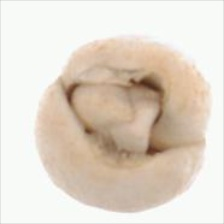L3: (60, 68, 172, 159)
L4: (35, 37, 212, 213)
